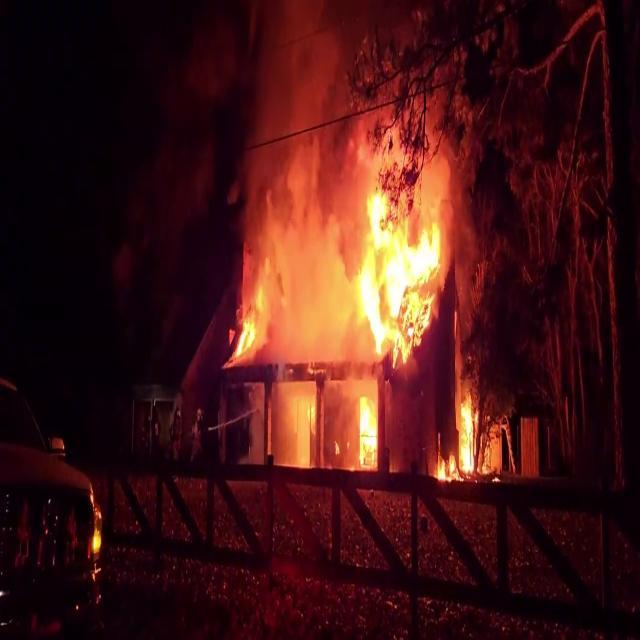Fire: (333, 175, 445, 355), (436, 378, 482, 486), (85, 482, 106, 582), (354, 386, 379, 467)
Smoke: (232, 0, 399, 341)
